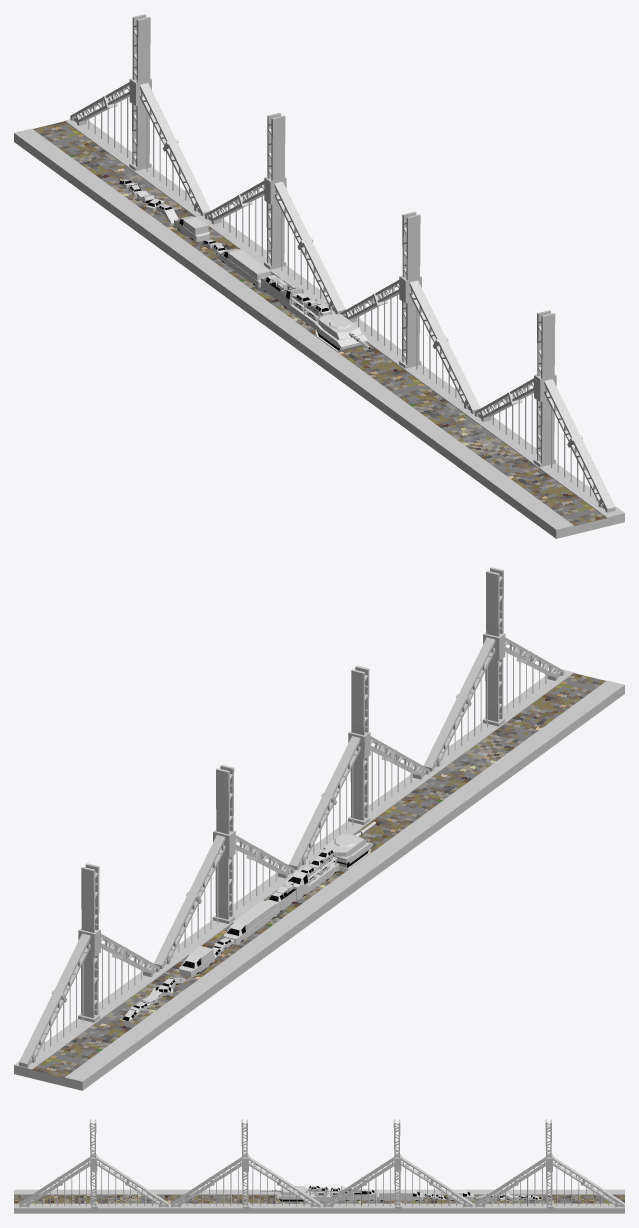
Rendered from TimLee_long_bridge.fbx.
3 views of the same model, one above another, from view 1: azimuth 30°, elevation 25°; view 2: azimuth 150°, elevation 25°; view 3: azimuth 270°, elevation 25° (orthographic). The views are drawn at different scales.
Parts seen in each view (by area): view 1: Cube.034, Cube.035, Cube.038, Car.024, Car.026; view 2: Cube.034, Cube.035, Cube.038, Car.024, Car.026, Car.023; view 3: Cube.034, Cube.035, Car.024, Cube.038, Car.026, Car.022, Car.023.
Part boxes in pixels (x1,y1,x2,y2): Cube.034: (14,116,624,538); Cube.035: (70,14,615,512); Cube.038: (314,314,370,352); Car.024: (218,248,270,287); Car.026: (280,287,331,329); Cube.034: (14,669,624,1090); Cube.035: (19,567,564,1067); Cube.038: (319,821,375,869); Car.024: (223,900,277,944); Car.026: (285,849,339,899); Car.023: (179,946,214,977); Cube.034: (14,1189,624,1213); Cube.035: (19,1119,624,1208); Car.024: (377,1189,423,1200); Cube.038: (260,1186,308,1202); Car.026: (307,1186,353,1200); Car.022: (354,1189,377,1200); Car.023: (447,1189,473,1200).
Bounding box in the file's own units: 7607 × 16925 × 104098.
6 materials, 1 textured.
